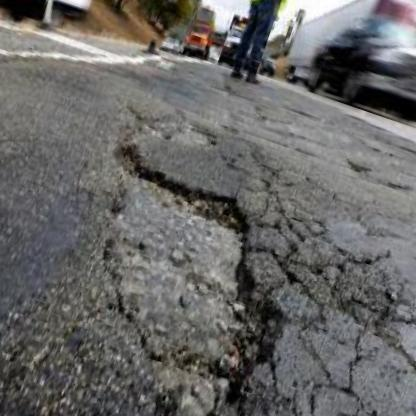pothole: (50, 132, 330, 406), (128, 100, 217, 159), (116, 385, 270, 416)
